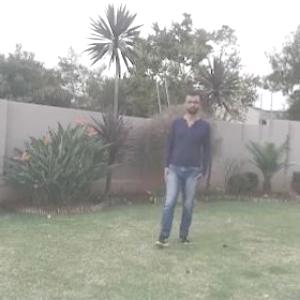follow: (164, 94, 206, 235)
